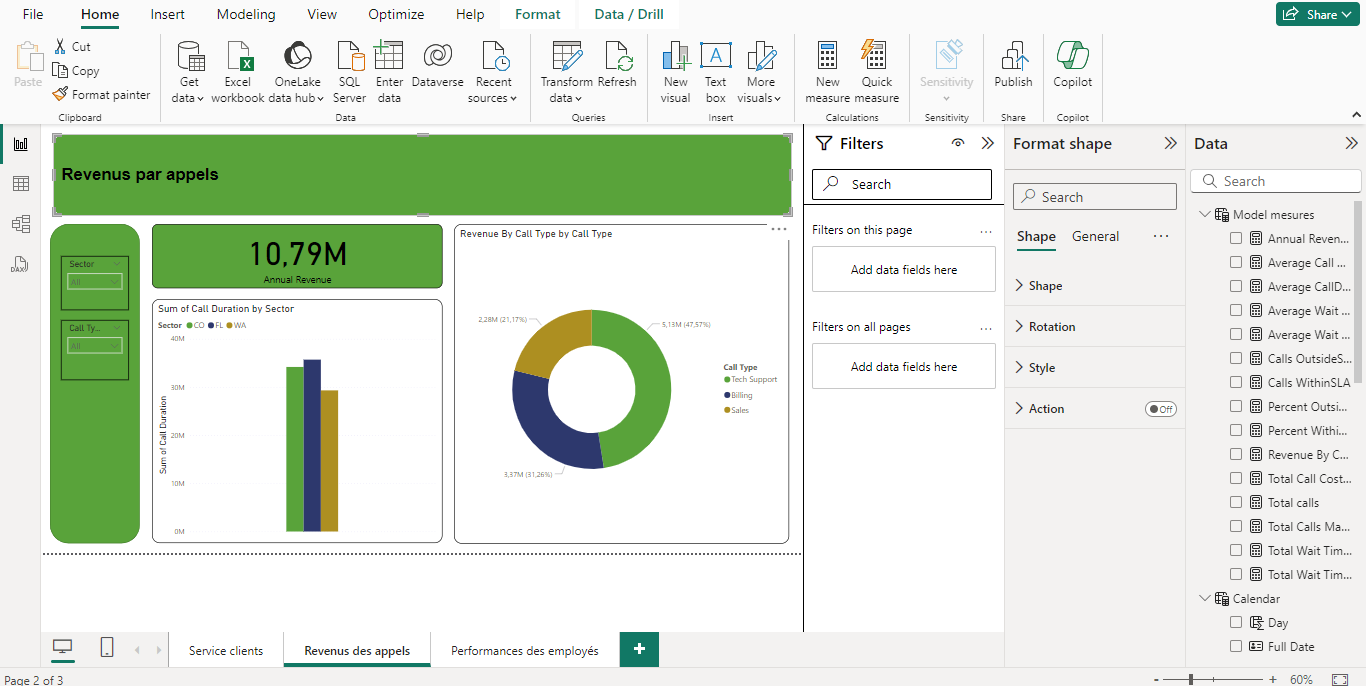

What the dashboard file says about the page in this screenshot:
{"tool":"powerbi","page":{"name":"Revenus des appels","canvas":[1280,720],"ordinal":1},"visuals":[{"type":"shape","title":"Revenus par appels","box":[20.5,20.5,1240.9,134.1],"z":0},{"type":"shape","box":[14.9,167.7,150.9,536.6],"z":1000},{"type":"card","fields":{"Values":["Model mesures.Annual Revenue"]},"box":[186.3,167.7,488.2,108.1],"z":2000},{"type":"slicer","fields":{"Values":["Employees.Sector"]},"box":[33.5,221.7,113.7,91.3],"z":3000},{"type":"slicer","fields":{"Values":["Call type.Call Type"]},"box":[33.5,329.8,113.7,100.6],"z":4000},{"type":"clusteredColumnChart","fields":{"Series":["Employees.Sector"],"Y":["Sum(Call Data (2018-2021).Call Duration)"]},"box":[186.3,294.4,488.2,409.9],"z":5000},{"type":"donutChart","fields":{"Y":["Model mesures.Revenue By Call Type"],"Category":["Call type.Call Type"]},"box":[693.1,167.7,562.7,536.6],"z":6000}]}

Visuals, with their boxes on the page's 1280x720 design canvas (x1, y1, x2, y2). These are canvas units, not pixel positions in the 1366x686 screenshot, which may show the page scaled, cropped or inside an application window:
"Revenus par appels" shape: select_region(20, 20, 1261, 155)
shape: select_region(15, 168, 166, 704)
card - Model mesures.Annual Revenue: select_region(186, 168, 674, 276)
slicer - Employees.Sector: select_region(34, 222, 147, 313)
slicer - Call type.Call Type: select_region(34, 330, 147, 430)
clusteredColumnChart - Employees.Sector x Sum(Call Data (2018-2021).Call Duration): select_region(186, 294, 674, 704)
donutChart - Model mesures.Revenue By Call Type x Call type.Call Type: select_region(693, 168, 1256, 704)
